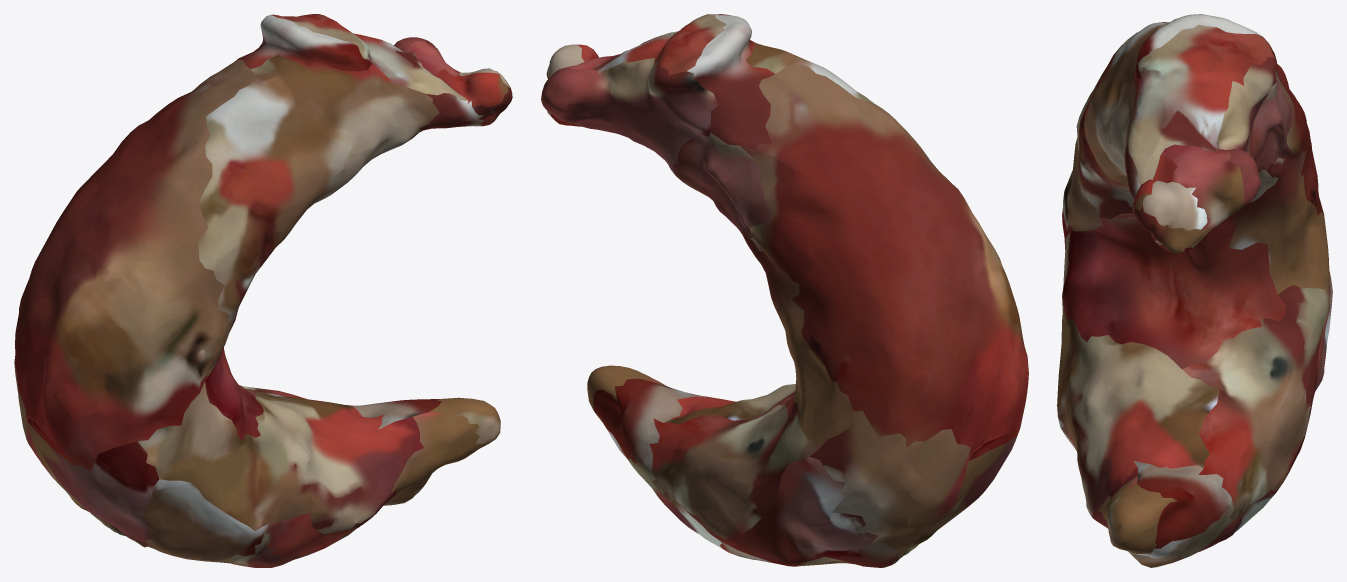
Rendered from yamEsacpe_YamWalk_0013_yamWalk06.fbx.
3 renders of one model, left to right at view 1: azimuth 30°, elevation 25°; view 2: azimuth 150°, elevation 25°; view 3: azimuth 270°, elevation 25°, orthographic. The views are drawn at different scales.
Parts seen in each view (by area): view 1: YamWalk_0013_yamWalk06; view 2: YamWalk_0013_yamWalk06; view 3: YamWalk_0013_yamWalk06.
Boxes of the visible parts, box(x1,y1,x2,y2) form: YamWalk_0013_yamWalk06: box(14, 14, 512, 567); YamWalk_0013_yamWalk06: box(541, 14, 1028, 567); YamWalk_0013_yamWalk06: box(1057, 14, 1332, 567).
Bounding box in the file's own units: 0.0718 × 0.0757 × 0.0355.
